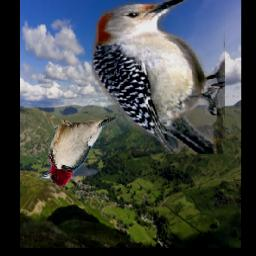Woodpecker: (92, 0, 225, 154), (40, 117, 117, 187)
